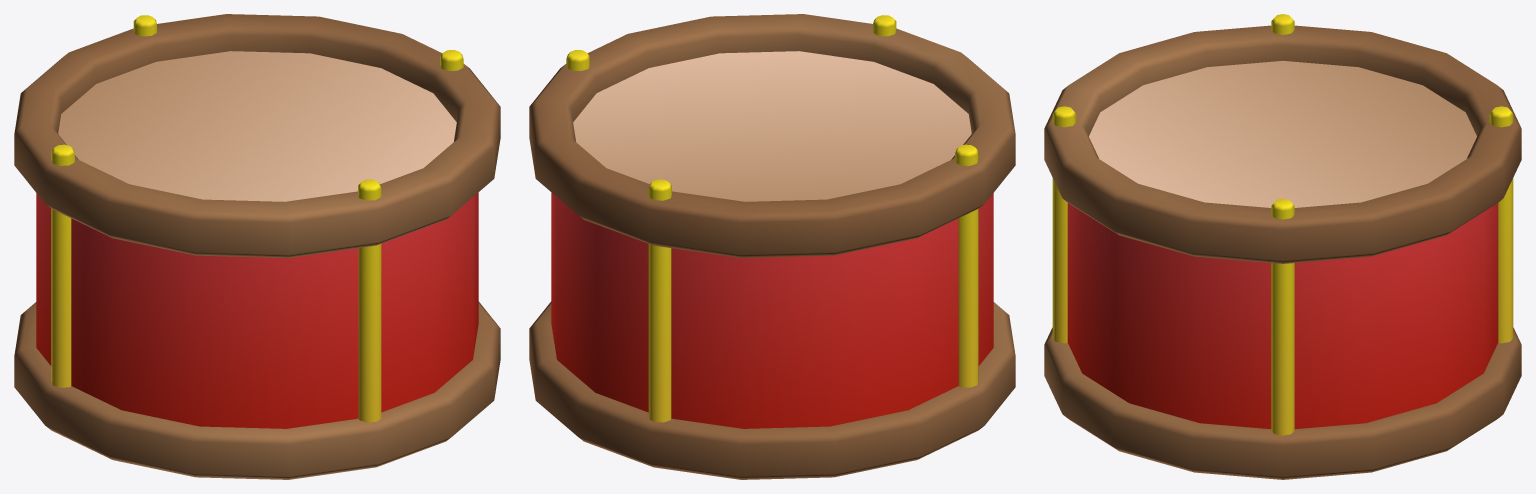
The model's file is Drum_red.fbx.
The picture shows the model from 3 angles, left to right: view 1: azimuth 30°, elevation 25°; view 2: azimuth 150°, elevation 25°; view 3: azimuth 270°, elevation 25°; orthographic projection. The views are drawn at different scales.
Parts seen in each view (by area): view 1: Drum_red; view 2: Drum_red; view 3: Drum_red.
Part boxes in pixels (x1,y1,x2,y2): Drum_red: (14,14,500,479); Drum_red: (529,14,1015,479); Drum_red: (1044,14,1521,479).
Size of the model in its own units: 170 by 107 by 170.
